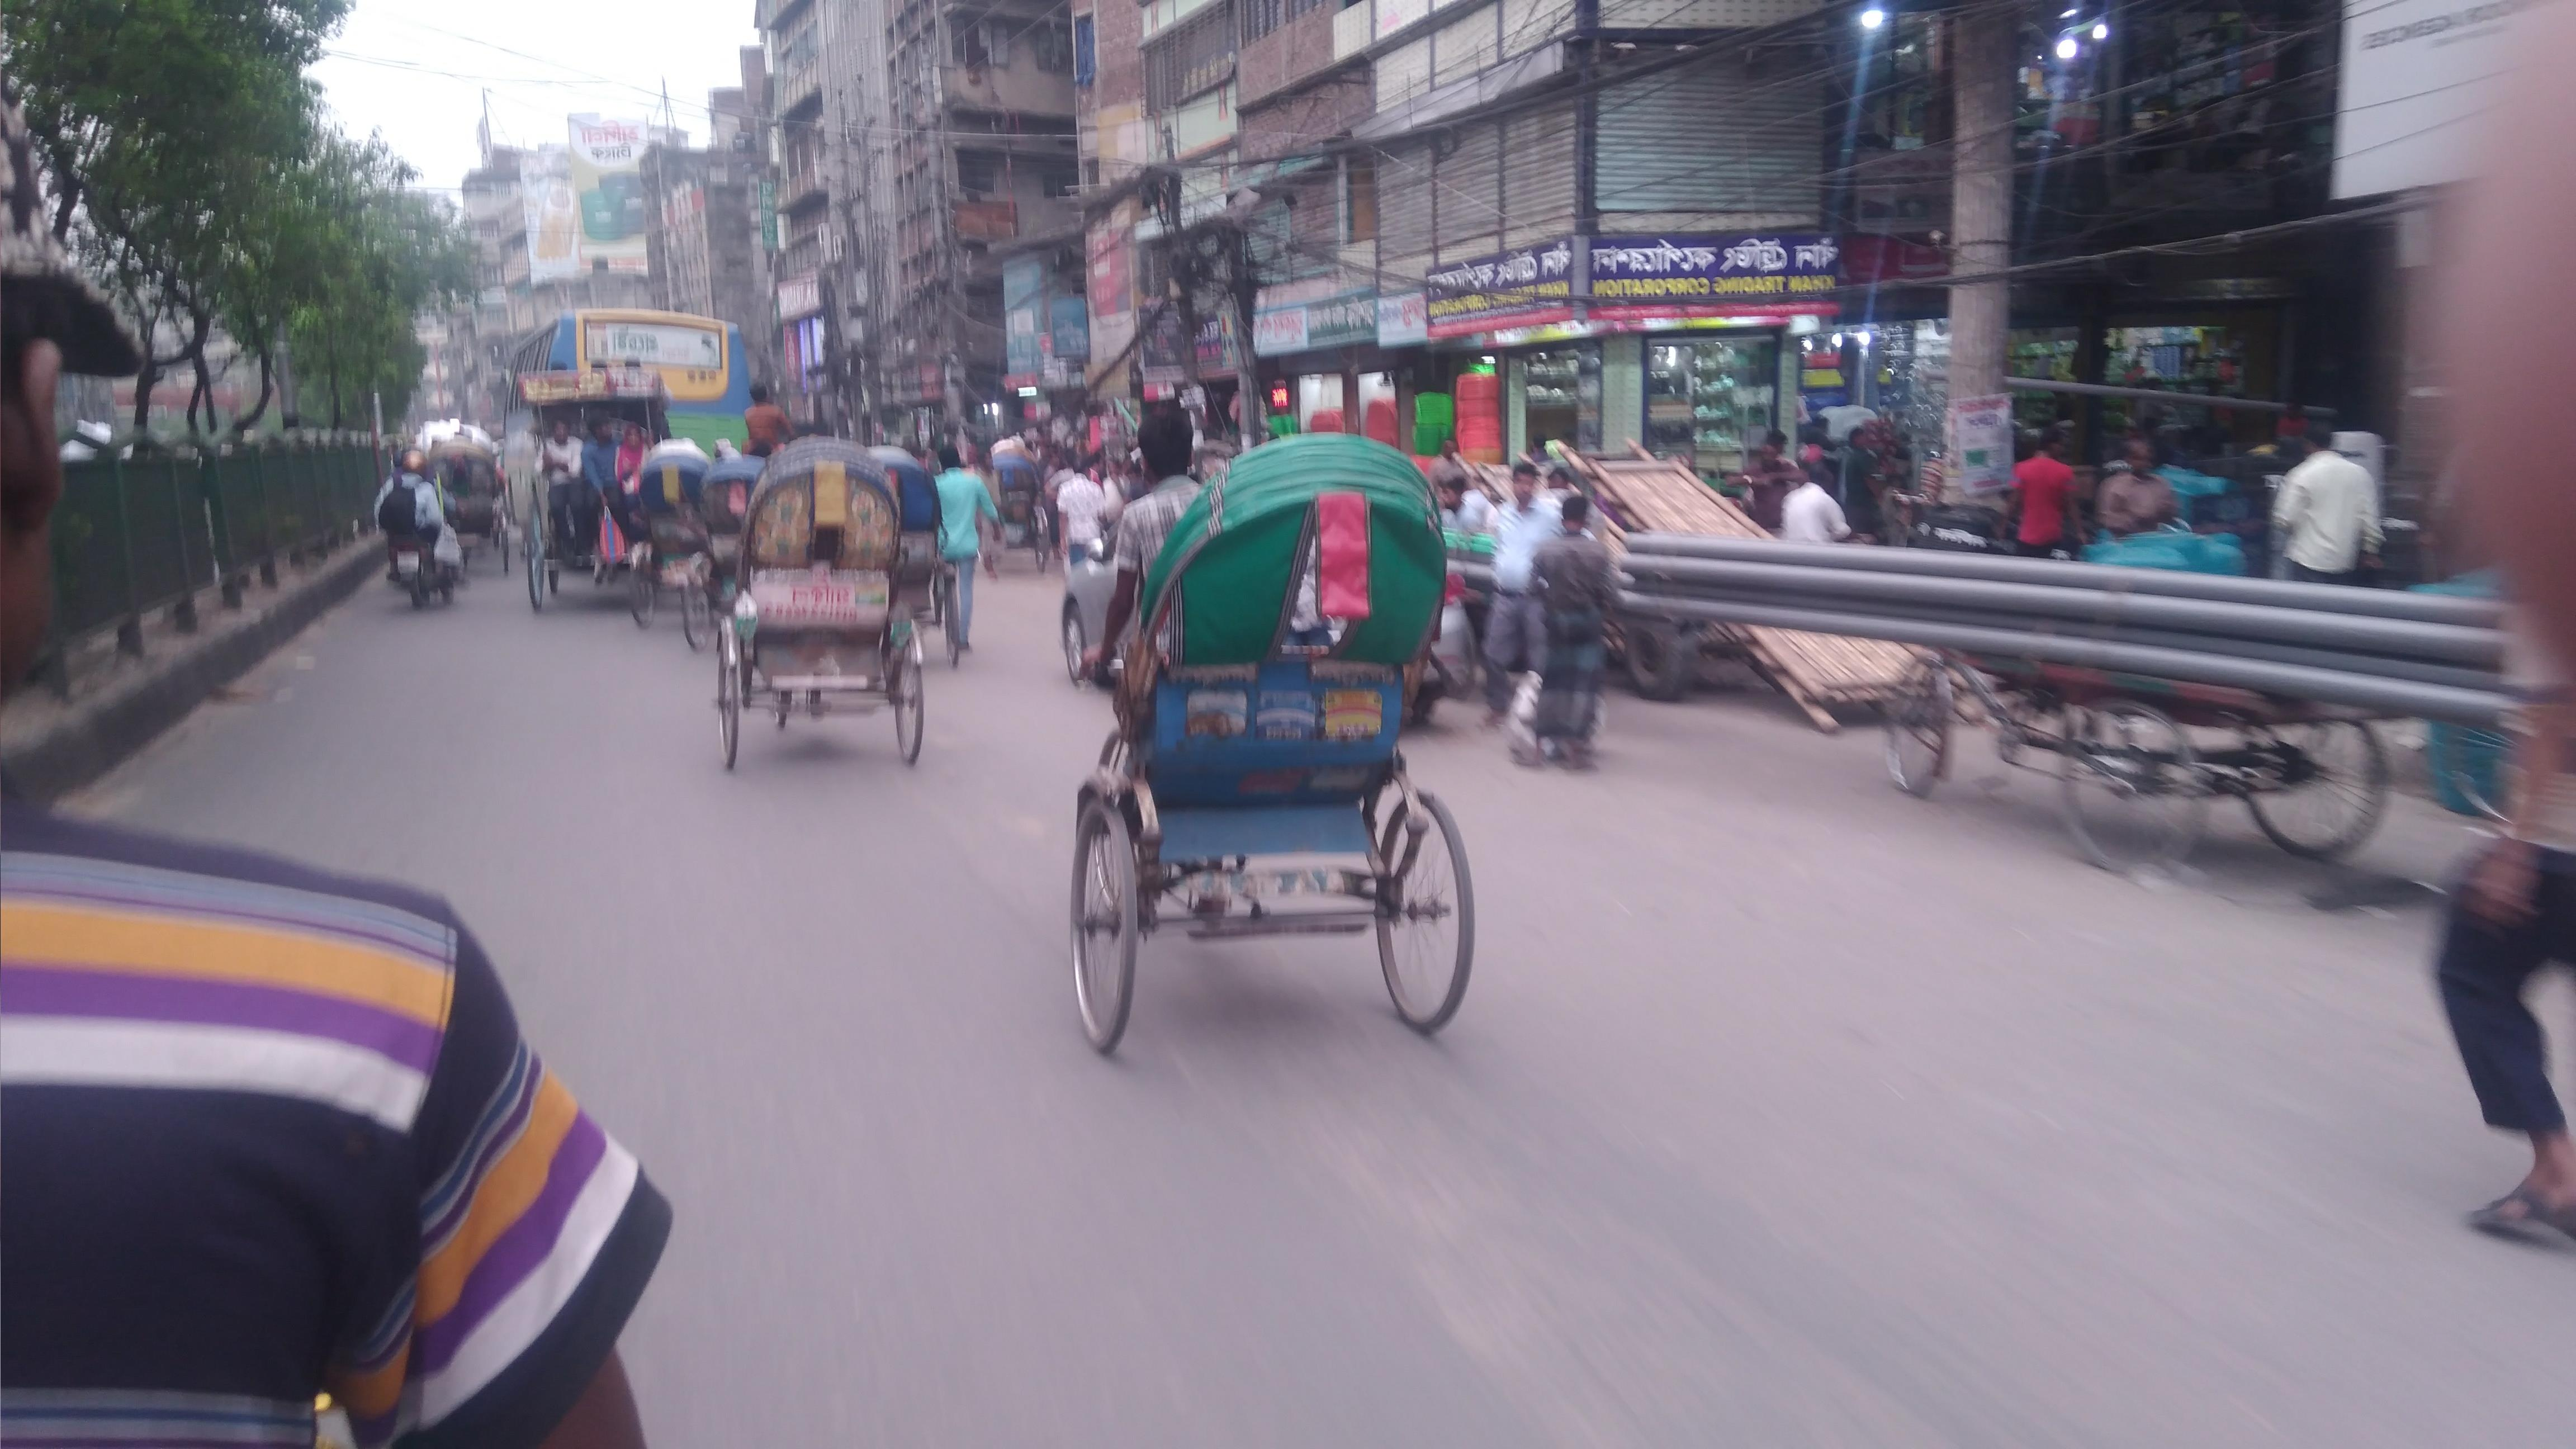Rickshaw: (1085, 442, 1481, 1046), (740, 428, 957, 770), (419, 400, 527, 566), (625, 425, 720, 610), (973, 423, 1047, 589)
